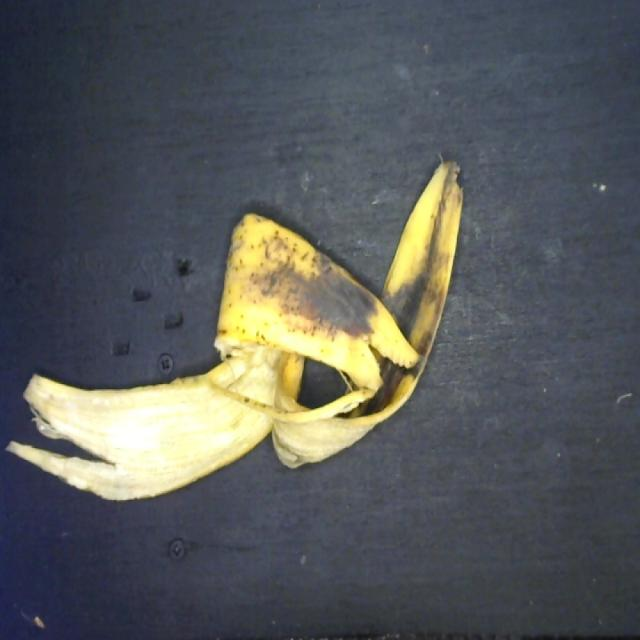biodegradable: (0, 151, 480, 509)
